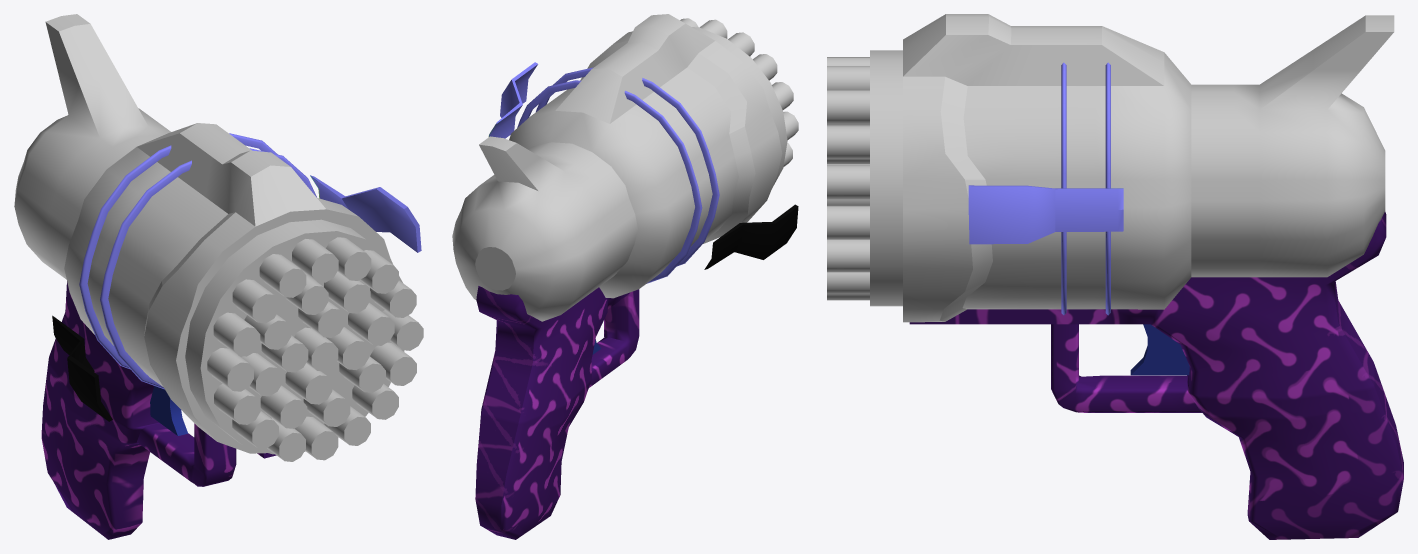
File: BubbleGun.fbx
The picture shows the model from 3 angles, left to right: view 1: azimuth 30°, elevation 25°; view 2: azimuth 150°, elevation 25°; view 3: azimuth 270°, elevation 25°; orthographic projection. The views are drawn at different scales.
Parts seen in each view (by area): view 1: polySurface82, polySurface76, polySurface48, polySurface80, polySurface49, polySurface47, polySurface46, polySurface50, polySurface81; view 2: polySurface82, polySurface48, polySurface50, polySurface46, polySurface76, polySurface47, polySurface80, polySurface49; view 3: polySurface82, polySurface48, polySurface76, polySurface80, polySurface49, polySurface81, polySurface46, polySurface47.
Part boxes in pixels (x1,y1,x2,y2): polySurface82: [14, 14, 393, 453]; polySurface76: [207, 237, 423, 461]; polySurface48: [41, 281, 276, 539]; polySurface80: [185, 219, 404, 454]; polySurface49: [310, 175, 421, 252]; polySurface47: [100, 148, 316, 389]; polySurface46: [79, 133, 277, 369]; polySurface50: [52, 315, 112, 421]; polySurface81: [150, 386, 187, 435]; polySurface82: [452, 14, 782, 321]; polySurface48: [475, 286, 639, 539]; polySurface50: [704, 204, 798, 269]; polySurface46: [517, 80, 702, 283]; polySurface76: [680, 18, 798, 167]; polySurface47: [536, 67, 719, 266]; polySurface80: [692, 27, 787, 187]; polySurface49: [488, 62, 537, 138]; polySurface82: [903, 14, 1394, 322]; polySurface48: [909, 211, 1403, 539]; polySurface76: [827, 57, 869, 300]; polySurface80: [870, 50, 902, 306]; polySurface49: [968, 185, 1123, 244]; polySurface81: [1130, 324, 1189, 375]; polySurface46: [1105, 62, 1110, 315]; polySurface47: [1061, 62, 1066, 315].
Size of the model in its own units: 5.82 by 8.21 by 8.31.
